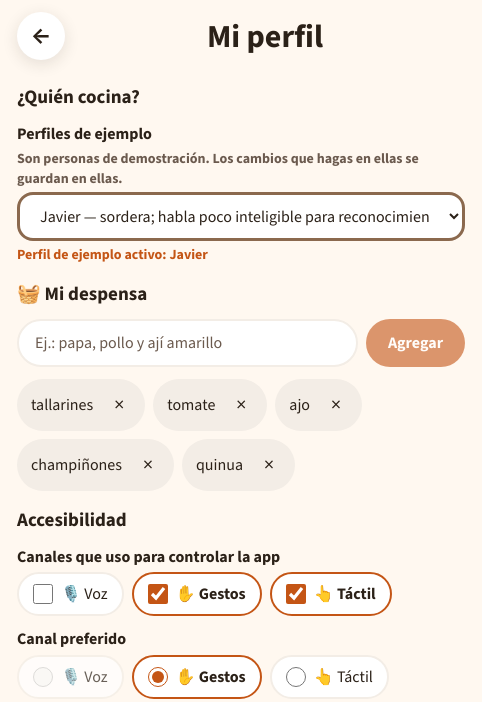
Scenario: ProfileScreen › no deja desactivar el último canal y avisa (CA-18.3)
Click the checkbox labelled "👆 Táctil" at x=296, y=594, box [286,584,306,604]
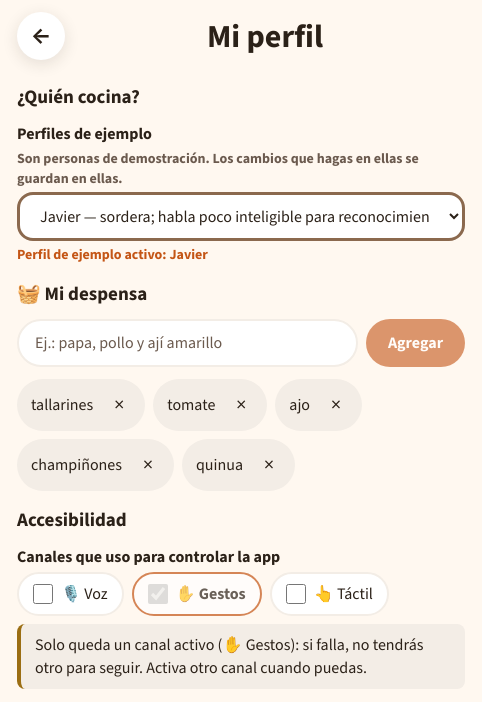
Expected: the message shows "Solo queda", [35,634,222,655]
Expected: the checkbox labelled "✋ Gestos" is disabled, [148,584,168,604]
